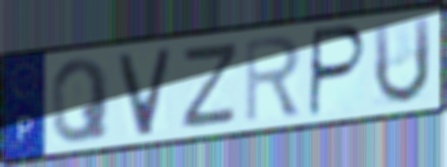P: (306, 22, 370, 120)
Q: (48, 55, 112, 146)
R: (243, 32, 304, 125)
U: (370, 13, 434, 109)
V: (115, 44, 176, 140)
Z: (178, 38, 241, 131)
